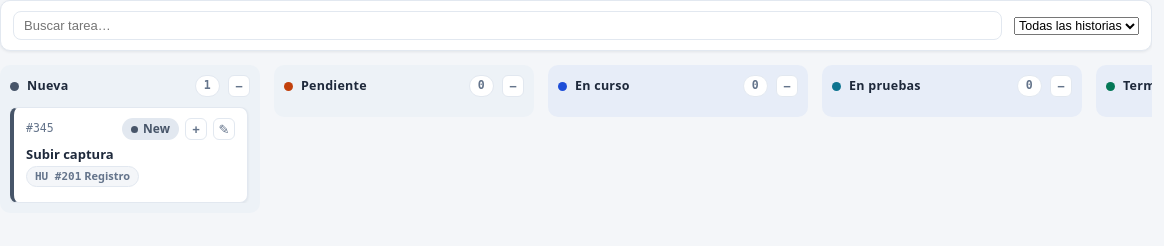
Test: TableroTareas › abre una tarjeta con descripción
The image size is (1164, 246).
Click the button named "ampliar detalle de la tarea". click: (196, 129)
box: [185,118,207,140]
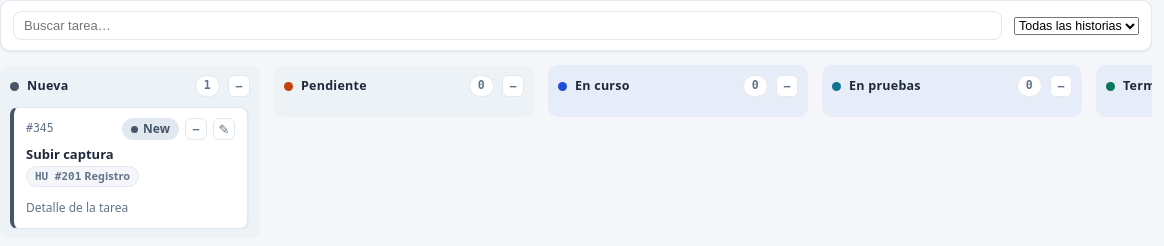
Check: the text "Detalle de la tarea" is shown, box [26,199,128,216]
